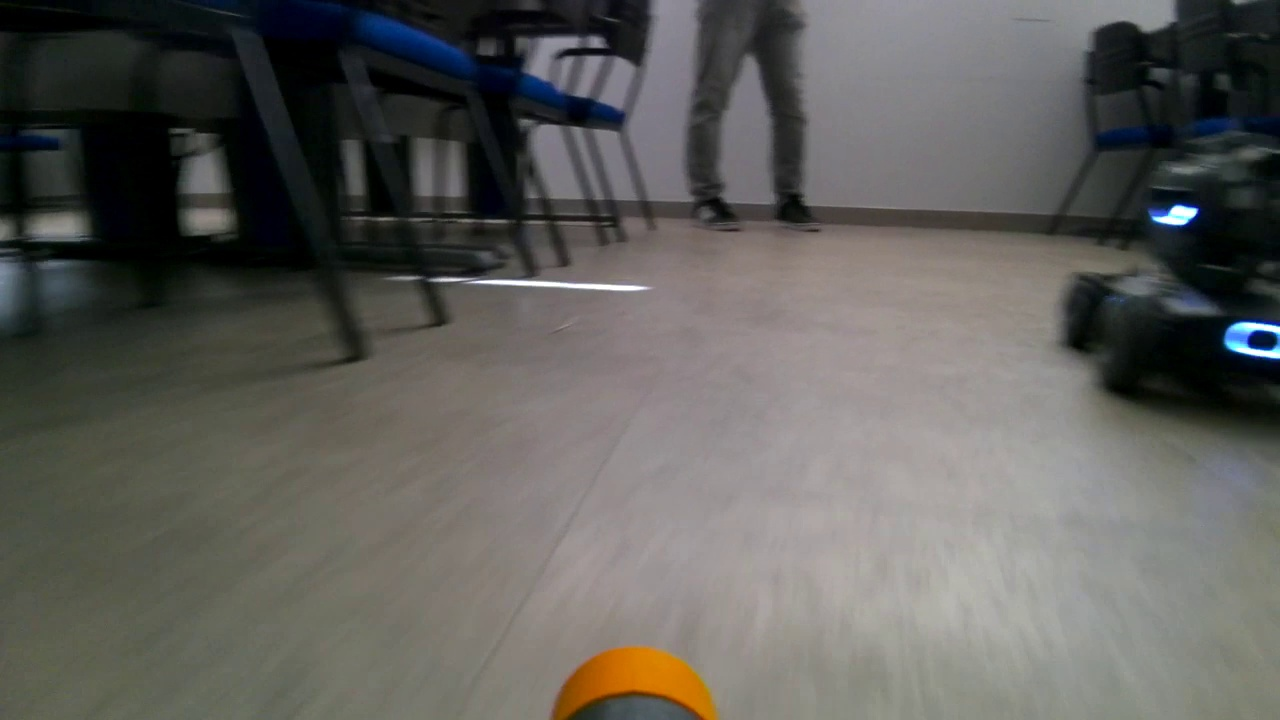robot: (1037, 71, 1280, 430)
